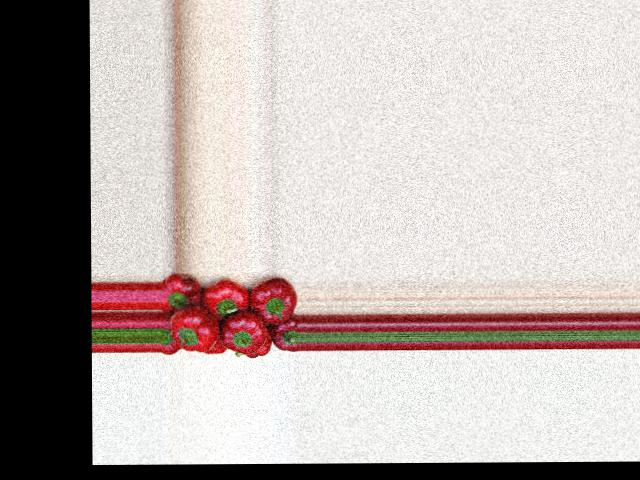bell_pepper: (207, 337, 226, 356)
